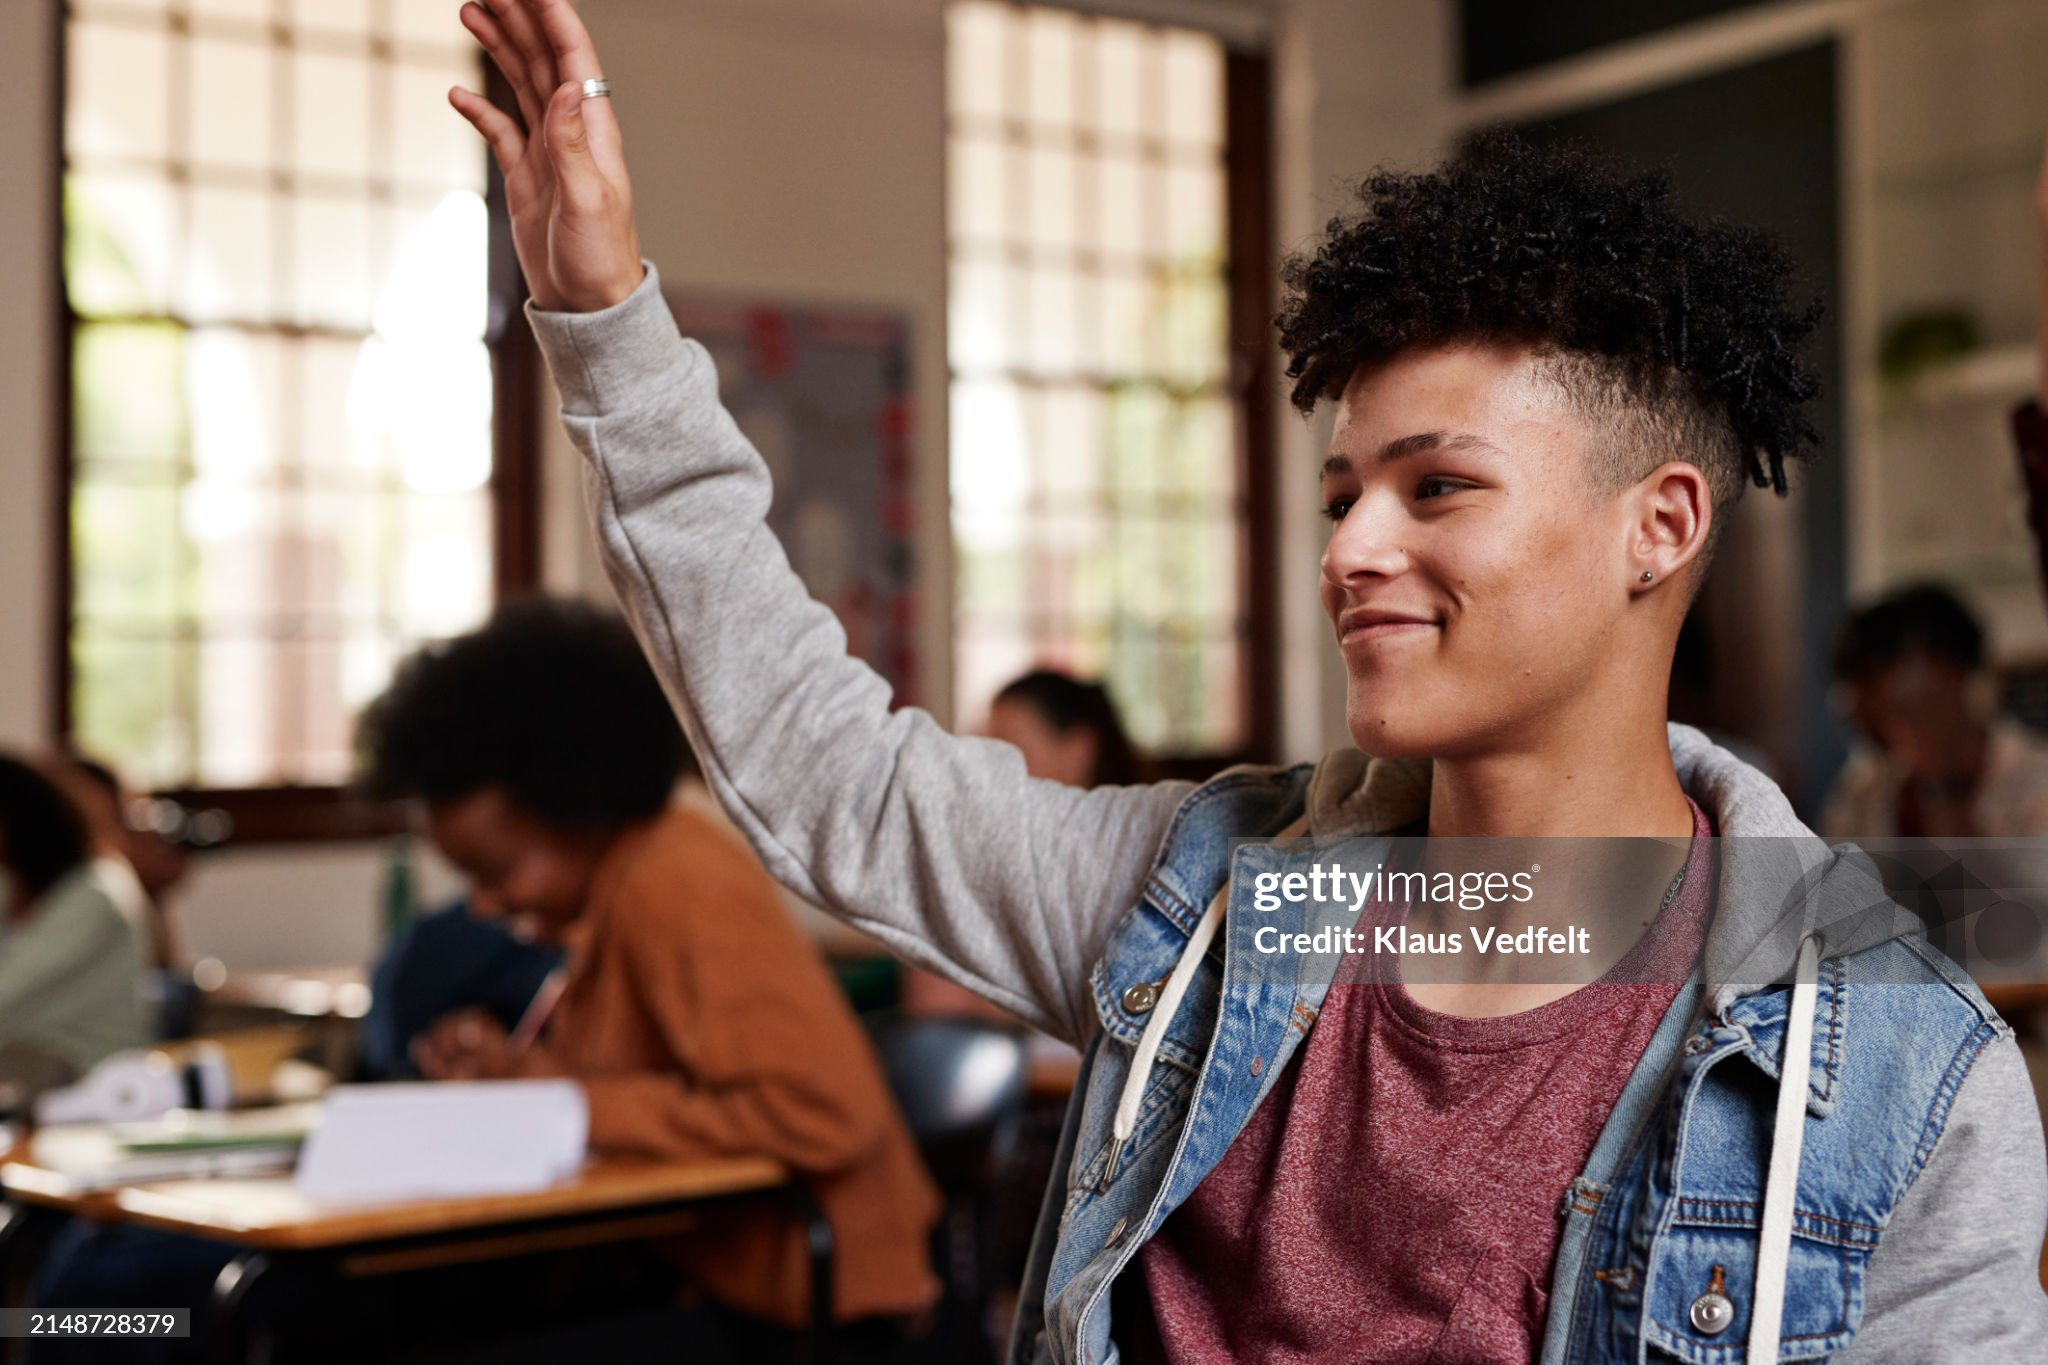entre15-30-porcento: (6, 0, 2043, 1159)
